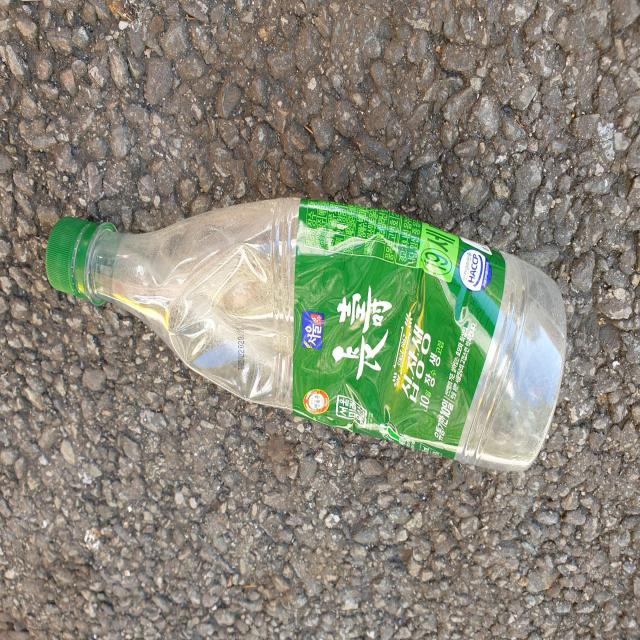plastic: (45, 198, 567, 471)
